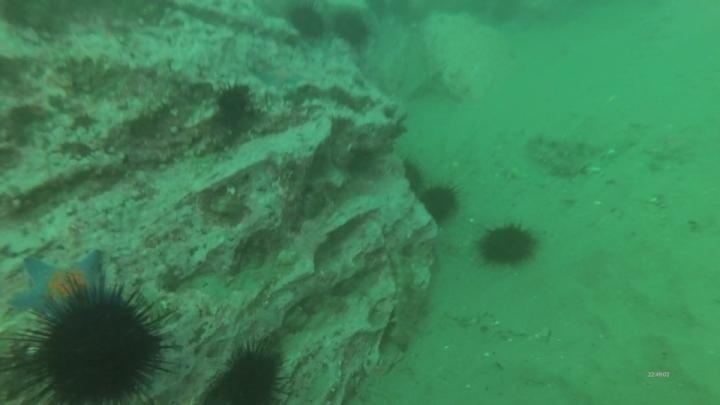echinus: (12, 281, 176, 404), (213, 341, 289, 405), (475, 220, 540, 270), (417, 182, 462, 225), (212, 81, 254, 126), (331, 8, 373, 50), (284, 3, 328, 42), (400, 157, 427, 196)
holothurian: (384, 242, 430, 354), (524, 129, 604, 158), (529, 146, 590, 179)
starfish: (8, 248, 107, 321), (255, 62, 305, 91)
